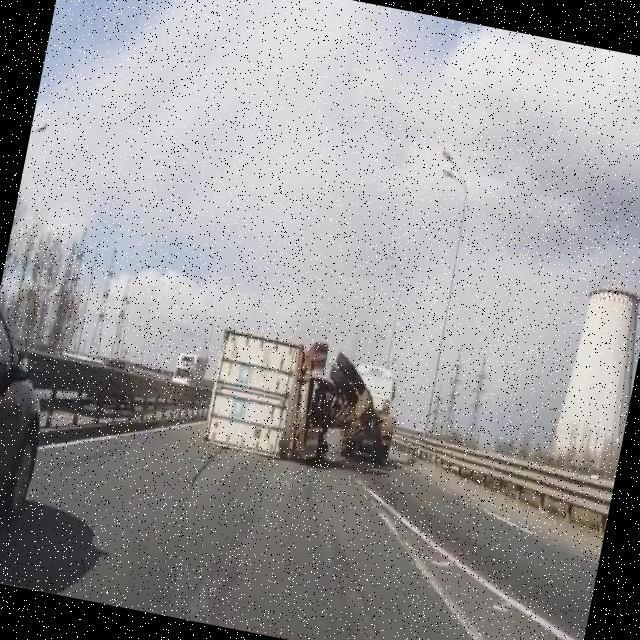accident: (195, 310, 392, 482)
